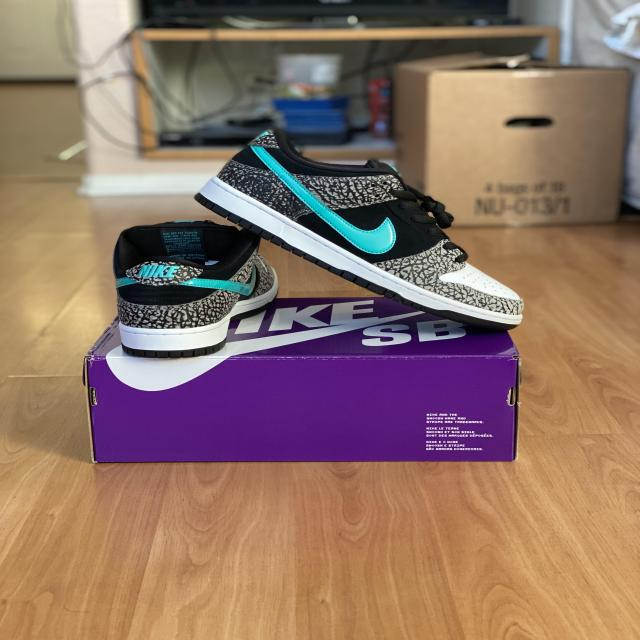shoe: (185, 113, 536, 341), (96, 211, 280, 378)
